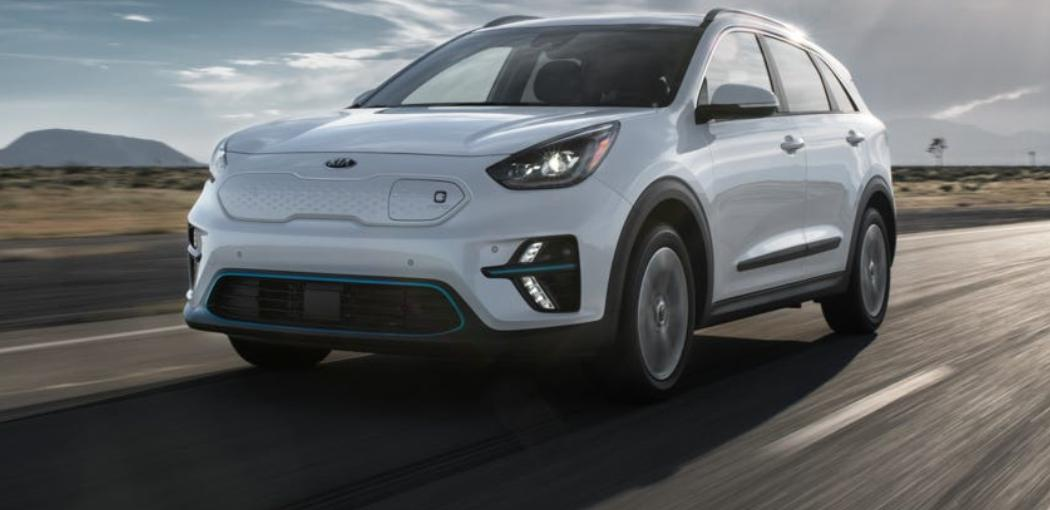car: (167, 2, 909, 388)
